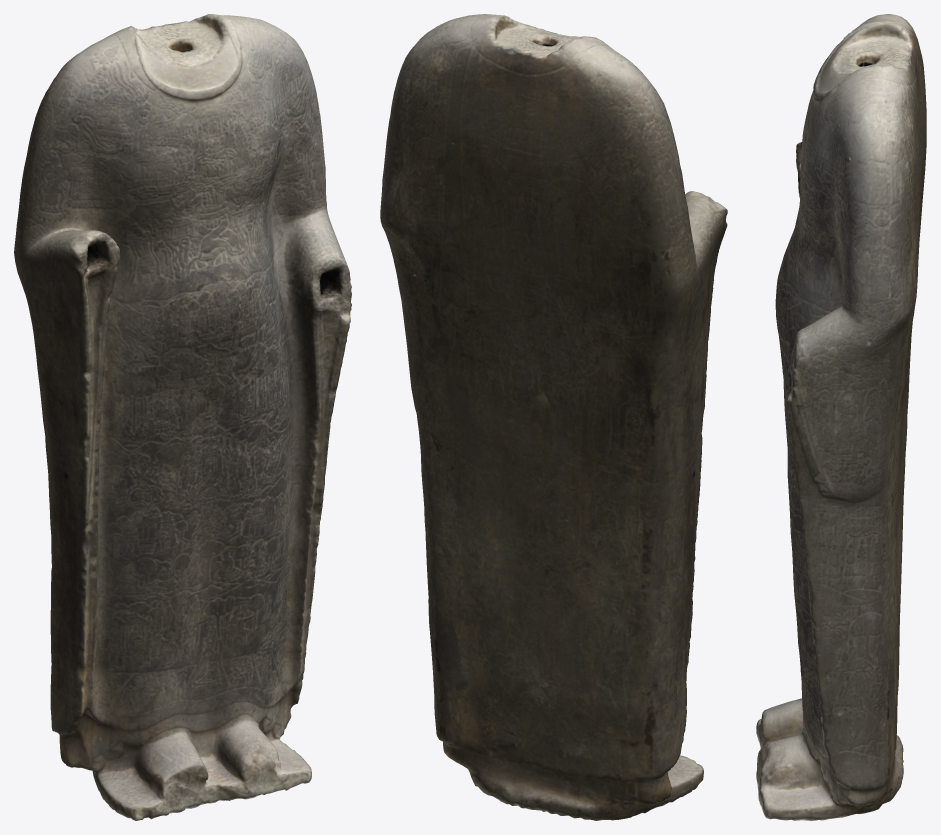
The model's file is buddha_lo.glb.
3 renders of one model, left to right at view 1: azimuth 30°, elevation 25°; view 2: azimuth 150°, elevation 25°; view 3: azimuth 270°, elevation 25°, orthographic. The views are drawn at different scales.
Visible parts, largest first — view 1: Optimized_Joined_default; view 2: Optimized_Joined_default; view 3: Optimized_Joined_default.
Part boxes in pixels (bbox=[...]): Optimized_Joined_default: bbox=[14, 14, 351, 820]; Optimized_Joined_default: bbox=[380, 14, 727, 820]; Optimized_Joined_default: bbox=[756, 14, 926, 820].
Bounding box in the file's own units: 0.7838 × 1.87 × 0.3907.
1 material, 1 textured.
